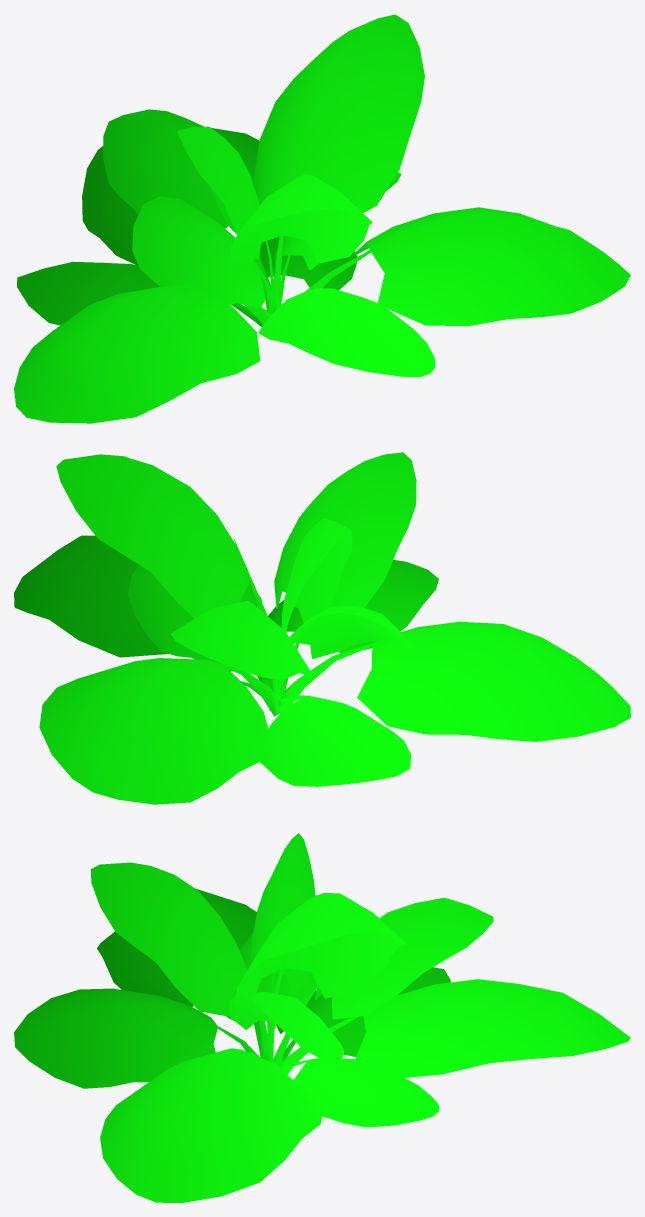
File: Philodendron_Small_2018.FBX
3 renders of one model, top to bottom at view 1: azimuth 30°, elevation 25°; view 2: azimuth 150°, elevation 25°; view 3: azimuth 270°, elevation 25°, orthographic.
Parts seen in each view (by area): view 1: PhilodendronSmall_LOD0; view 2: PhilodendronSmall_LOD0; view 3: PhilodendronSmall_LOD0.
Part boxes in pixels (x1,y1,x2,y2): PhilodendronSmall_LOD0: (14,14,630,423); PhilodendronSmall_LOD0: (14,452,630,804); PhilodendronSmall_LOD0: (14,833,630,1202).
Size of what is drawn, in the model's own units: 33.9 by 13.87 by 30.35.
